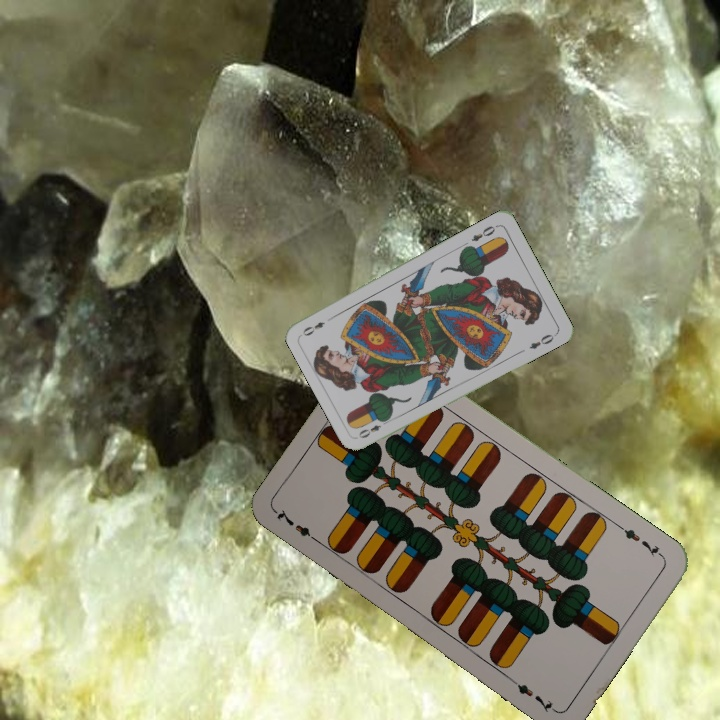E7: (271, 505, 323, 547), (615, 521, 666, 561)
EO: (354, 415, 392, 441), (467, 221, 500, 244)
